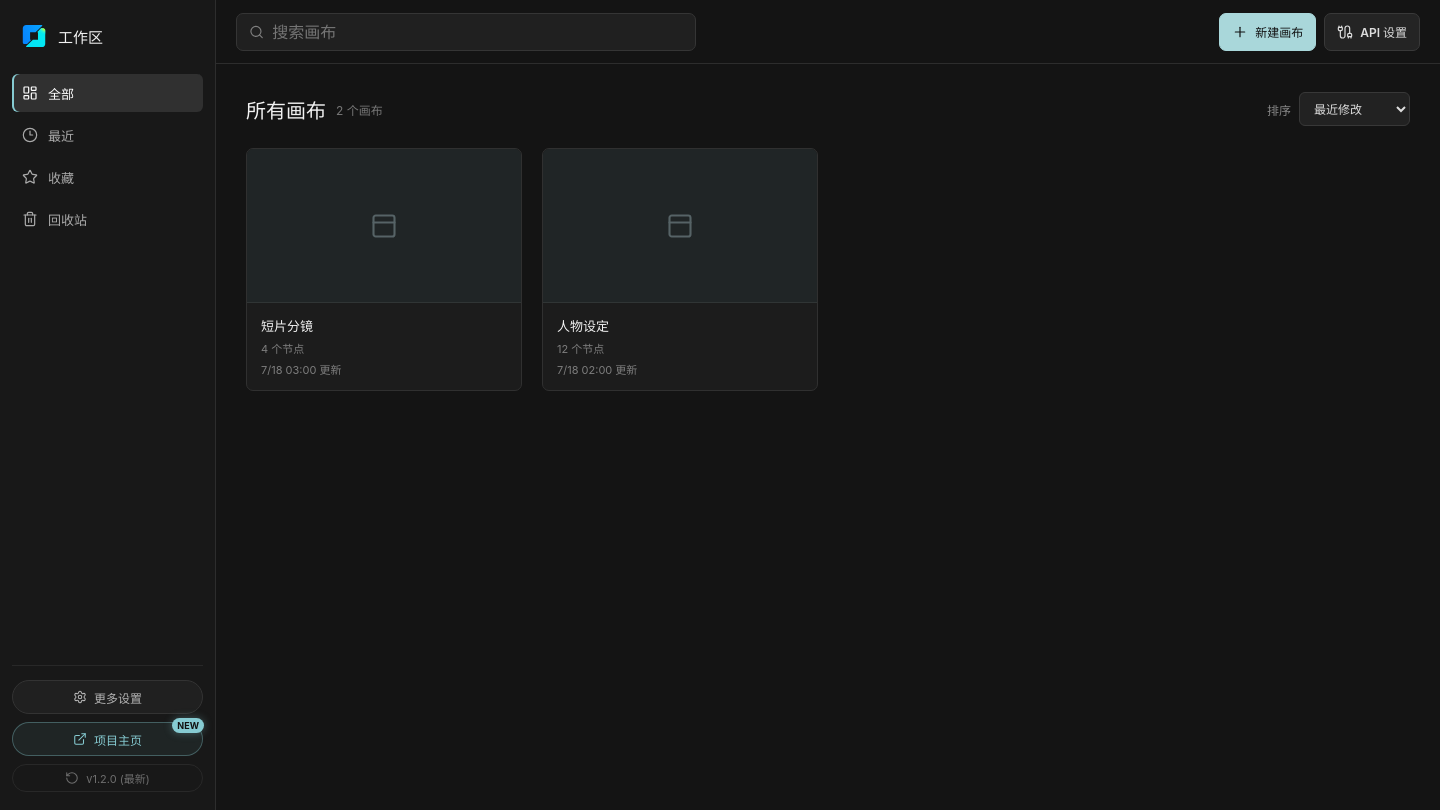
Scenario: workspace home view › reveals a searched canvas even when the current filter hides it
The width and height of the screenshot is (1440, 810).
Click the button "收藏" at point(108, 177), box [12, 158, 203, 196]
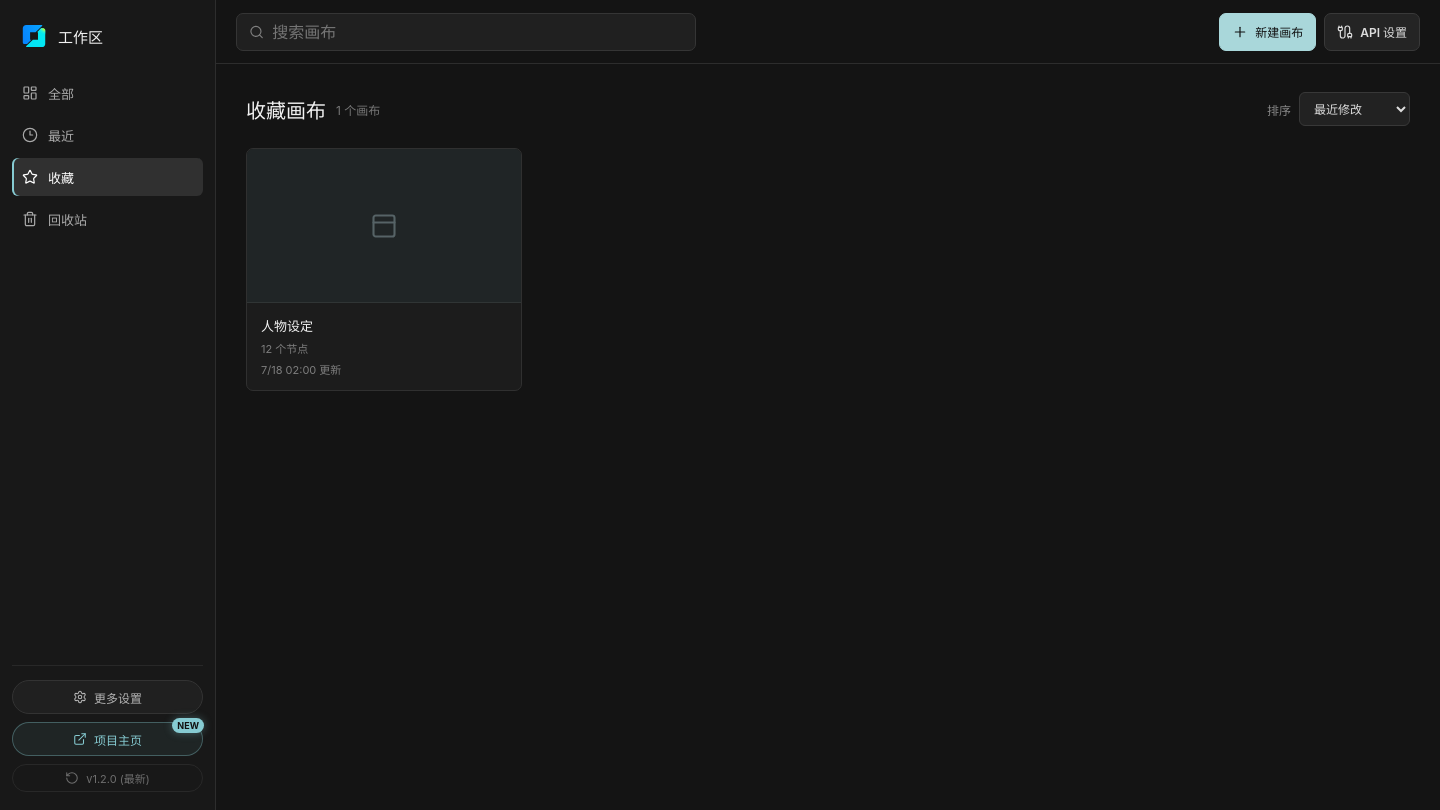
Type "人物设定" into the search field named "搜索工作区" at point(478, 32), box [272, 14, 683, 50]
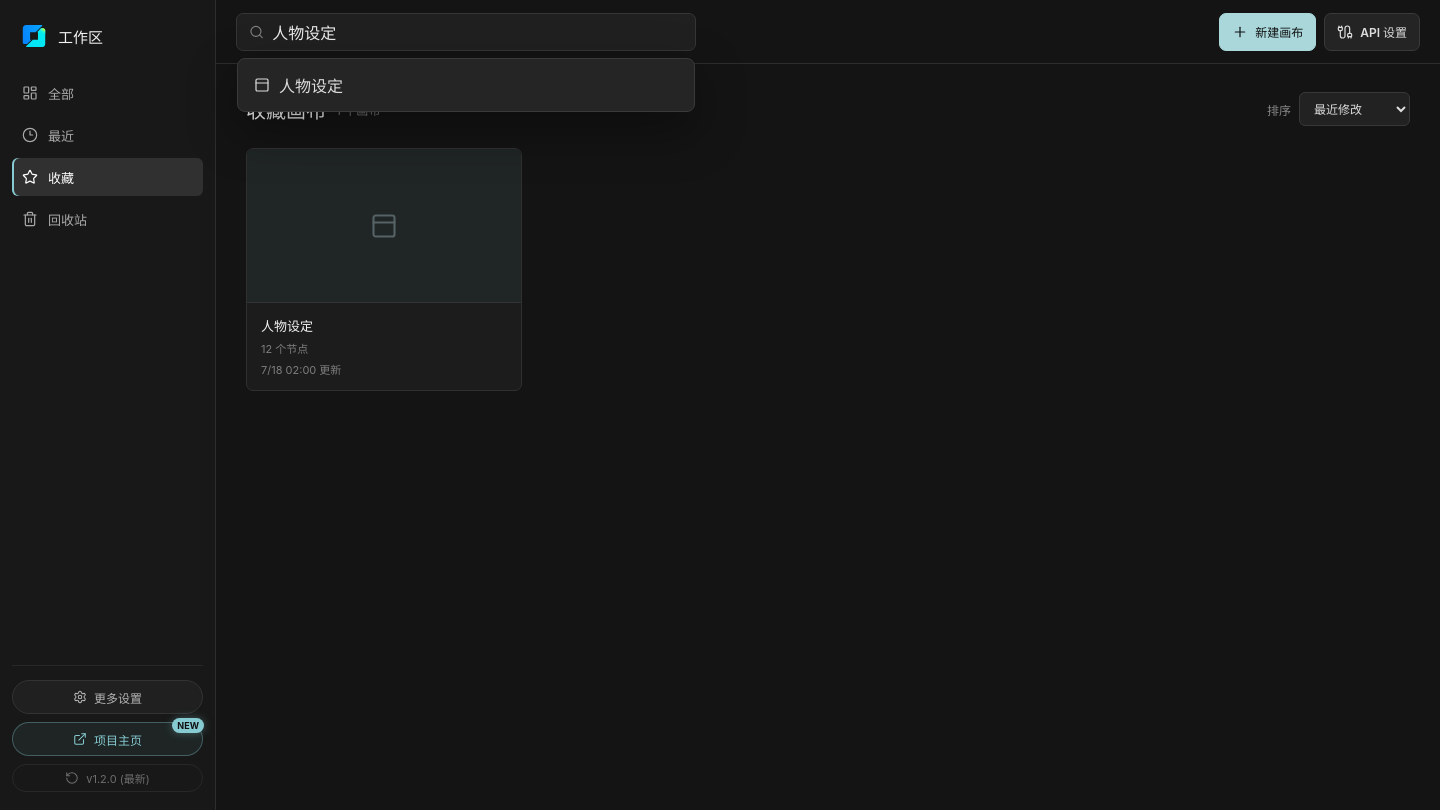
Click the option "人物设定" at point(311, 86), box [246, 66, 686, 102]
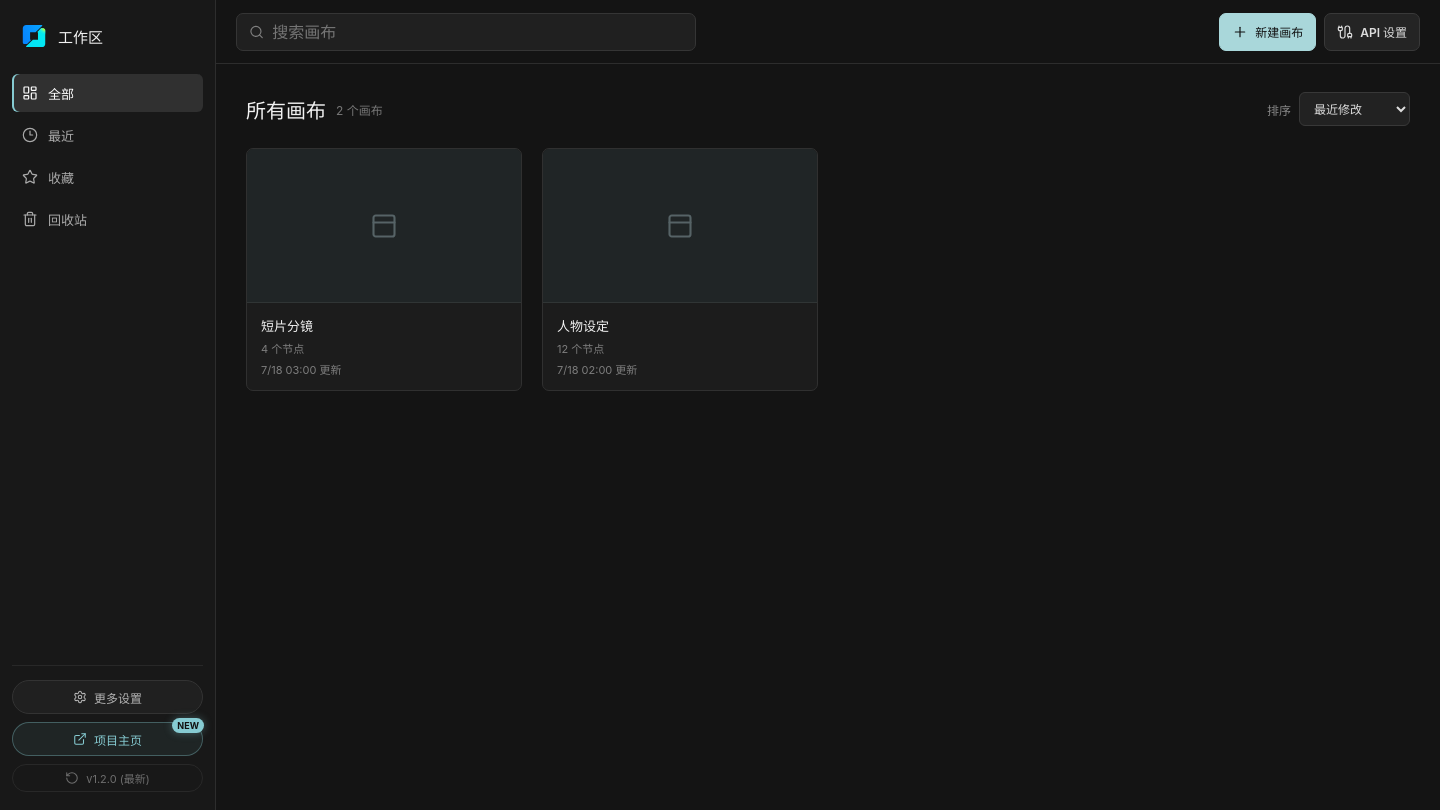
Expected: the button with aria-label "人物设定，12 个节点" is shown, [543, 149, 817, 390]
Now the button "全部" is marked as current, box [12, 74, 203, 112]
